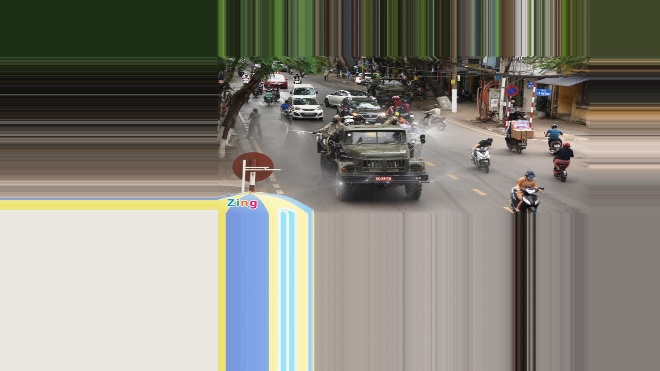plate: (371, 172, 396, 186)
